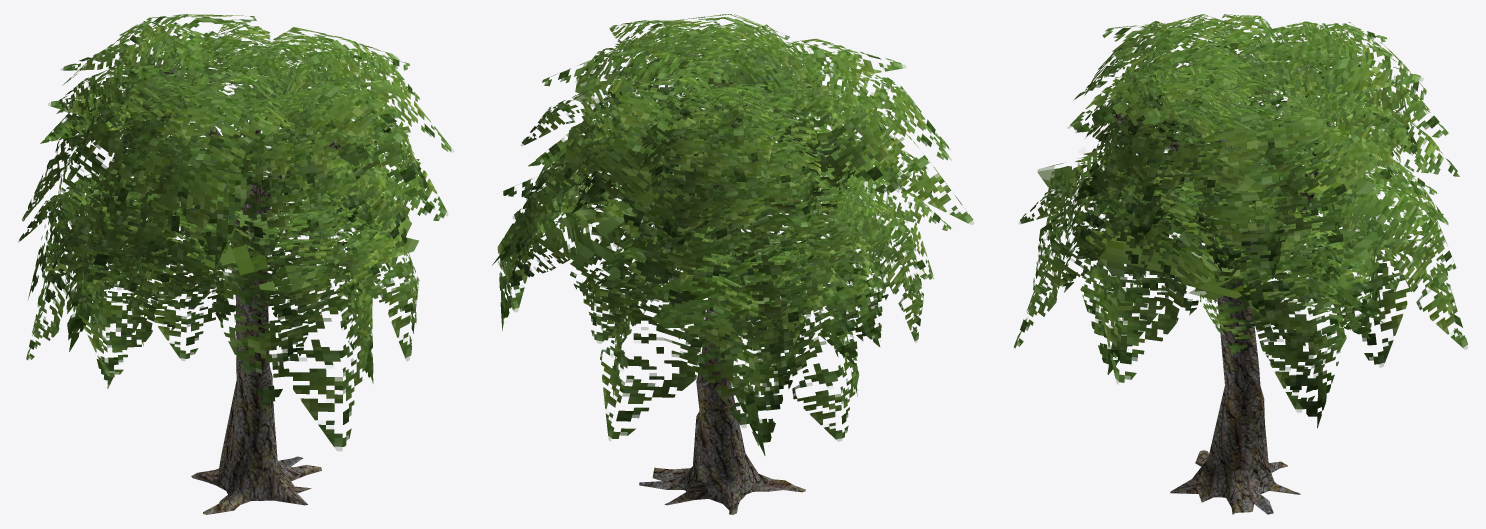
The model's file is oak.glb.
The picture shows the model from 3 angles, left to right: view 1: azimuth 30°, elevation 25°; view 2: azimuth 150°, elevation 25°; view 3: azimuth 270°, elevation 25°; orthographic projection.
Visible parts, largest first — view 1: Oak Tree, Oak Tree.001; view 2: Oak Tree, Oak Tree.001; view 3: Oak Tree, Oak Tree.001.
Boxes of the visible parts, <box> form: Oak Tree: <box>18,14,453,450</box>; Oak Tree.001: <box>113,59,340,514</box>; Oak Tree: <box>492,14,973,455</box>; Oak Tree.001: <box>639,85,805,514</box>; Oak Tree: <box>1013,14,1467,428</box>; Oak Tree.001: <box>1115,64,1360,514</box>.
Size of the model in its own units: 7.17 by 7.48 by 7.27.
2 materials, 2 textured.
